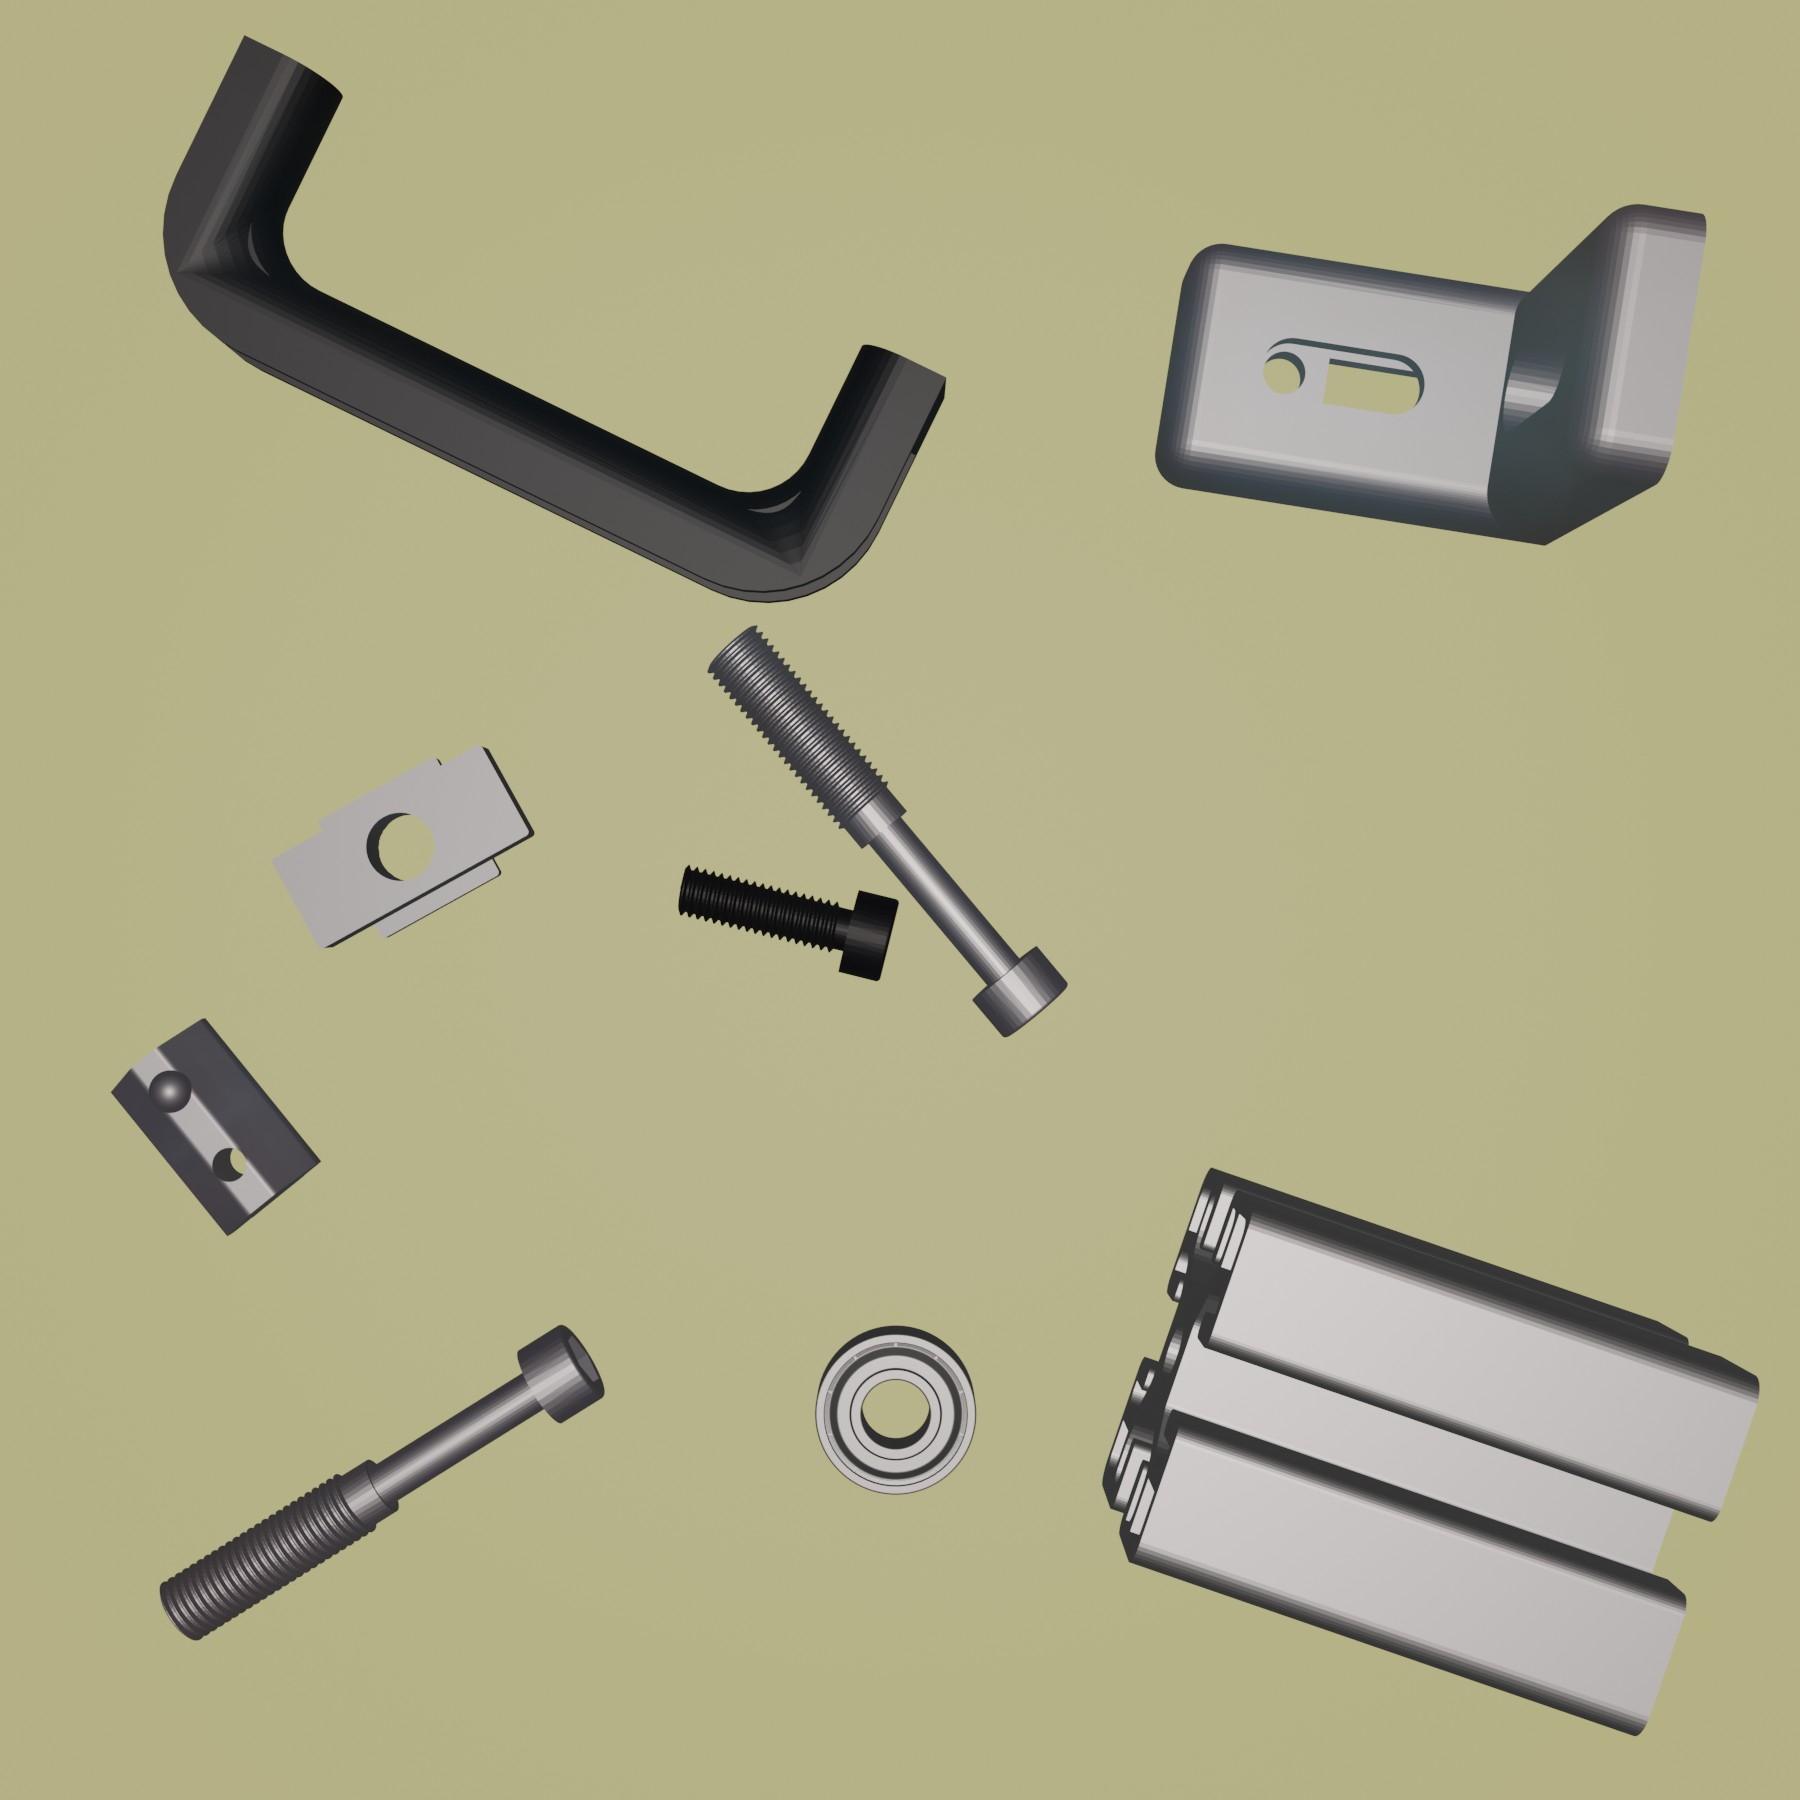Aluminium Extension: (1099, 1162, 1765, 1739)
Ball Bearing: (814, 1322, 981, 1497)
Multiwinkel: (1152, 199, 1711, 547)
Pull Handle: (162, 31, 948, 605)
Shoulder Socket Head Cap Screw: (705, 621, 1070, 1042), (157, 1320, 608, 1643)
Socket Head Cap Screw: (674, 865, 902, 986)
T Nut Square: (270, 742, 539, 954)
T Spring Nut: (109, 1019, 325, 1241)
